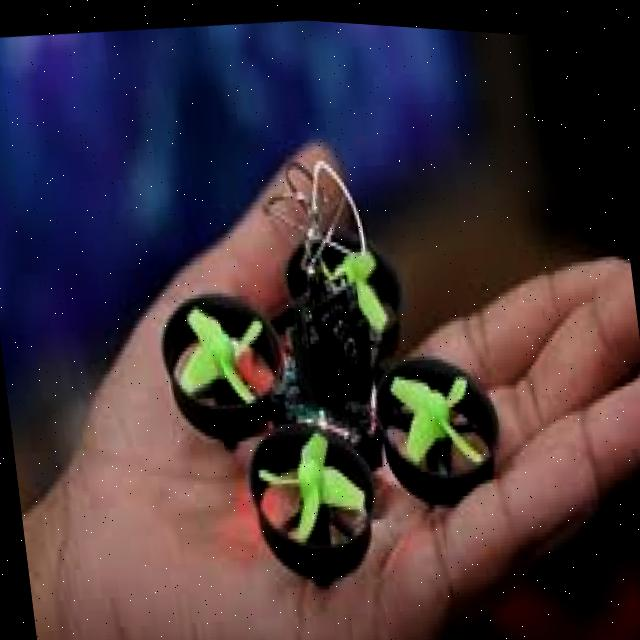drone: (136, 127, 522, 624)
